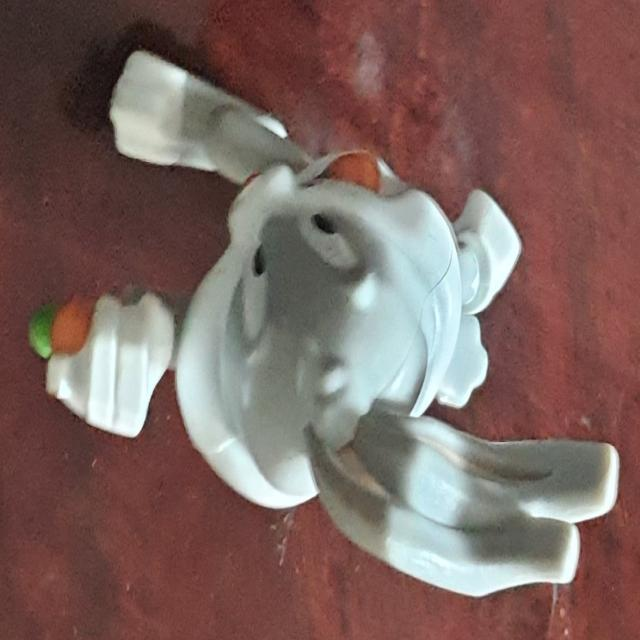Rabbit: (39, 47, 620, 601)
